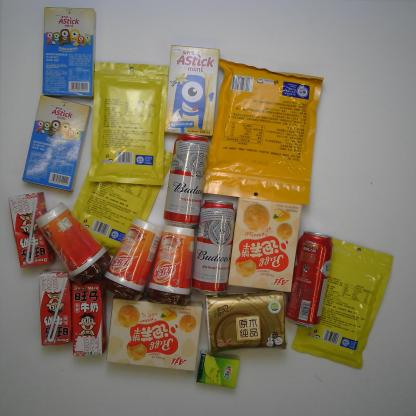Alcohol: (285, 231, 334, 329), (162, 133, 210, 229), (191, 199, 237, 297)
Dessert: (107, 294, 202, 371), (227, 198, 302, 293), (22, 94, 92, 192), (165, 45, 219, 137), (42, 6, 94, 98)
Dried Fruit: (201, 57, 324, 206), (291, 237, 394, 369), (71, 150, 173, 257), (89, 61, 170, 185)
Instant Drink: (35, 202, 111, 284), (102, 218, 162, 302), (147, 224, 195, 306)
Milk: (8, 191, 57, 268), (38, 269, 72, 346), (72, 284, 108, 356)
Tissue: (205, 291, 287, 355), (196, 350, 240, 388)
